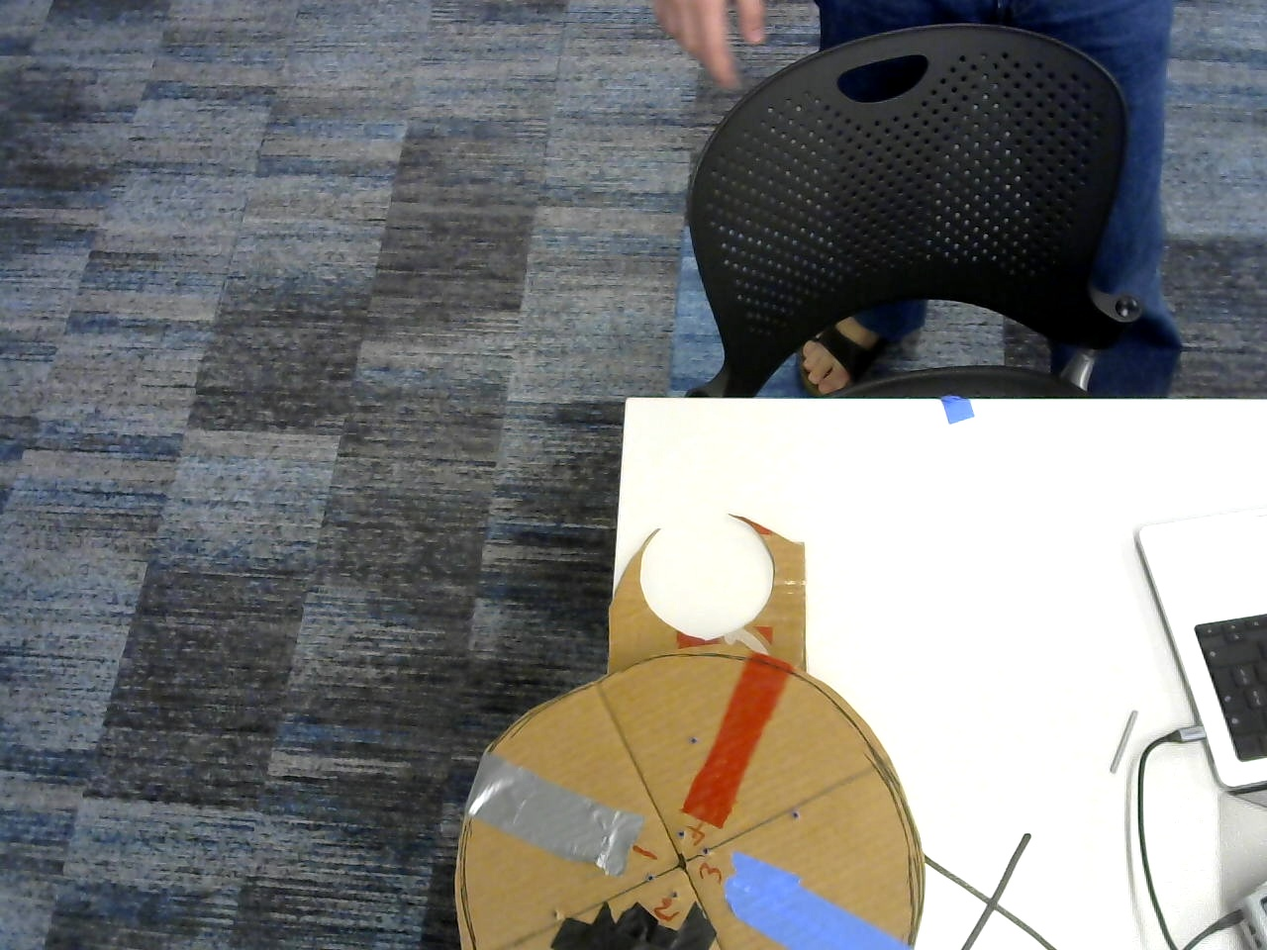black: (542, 906, 692, 950)
blue: (722, 853, 909, 950)
red: (681, 655, 793, 826)
silver: (472, 754, 646, 876)
x: (929, 834, 1049, 950)
